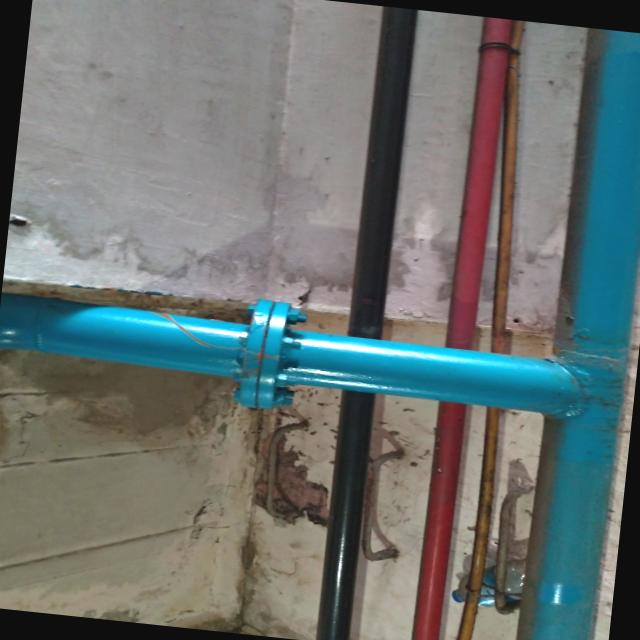gas: (0, 268, 635, 443), (511, 25, 640, 640)
